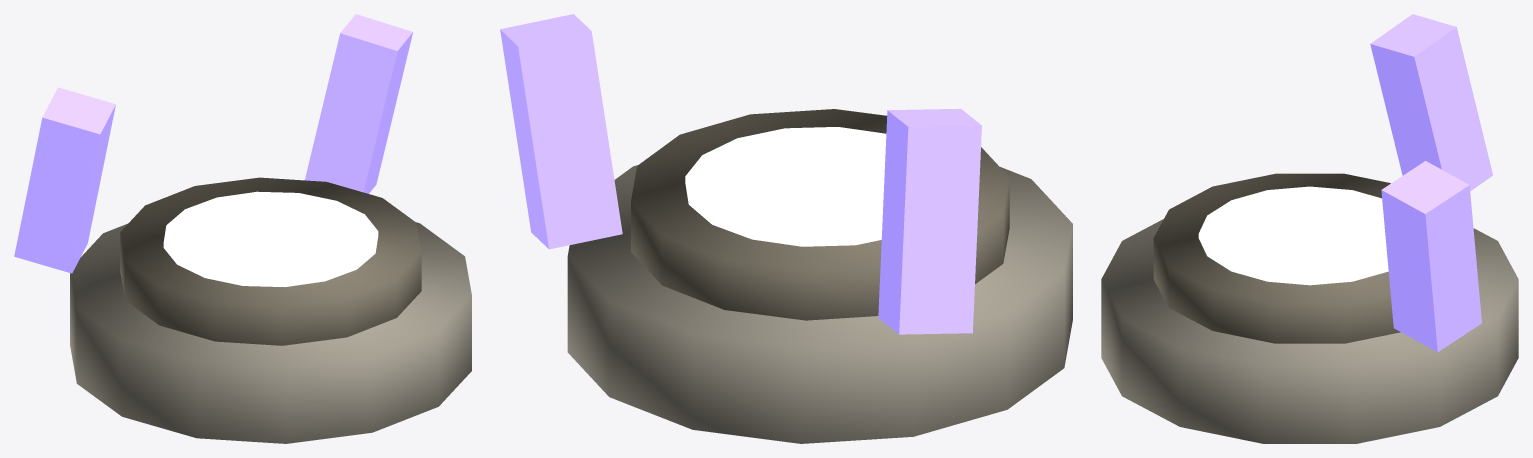
The model's file is portal.glb.
3 renders of one model, left to right at view 1: azimuth 30°, elevation 25°; view 2: azimuth 150°, elevation 25°; view 3: azimuth 270°, elevation 25°, orthographic. The views are drawn at different scales.
Visible parts, largest first — view 1: portal; view 2: portal; view 3: portal.
Boxes of the visible parts, <box> form: portal: <box>14,14,471,443</box>; portal: <box>500,14,1072,443</box>; portal: <box>1101,14,1518,443</box>.
Bounding box in the file's own units: 1.32 × 0.8256 × 1.2.
